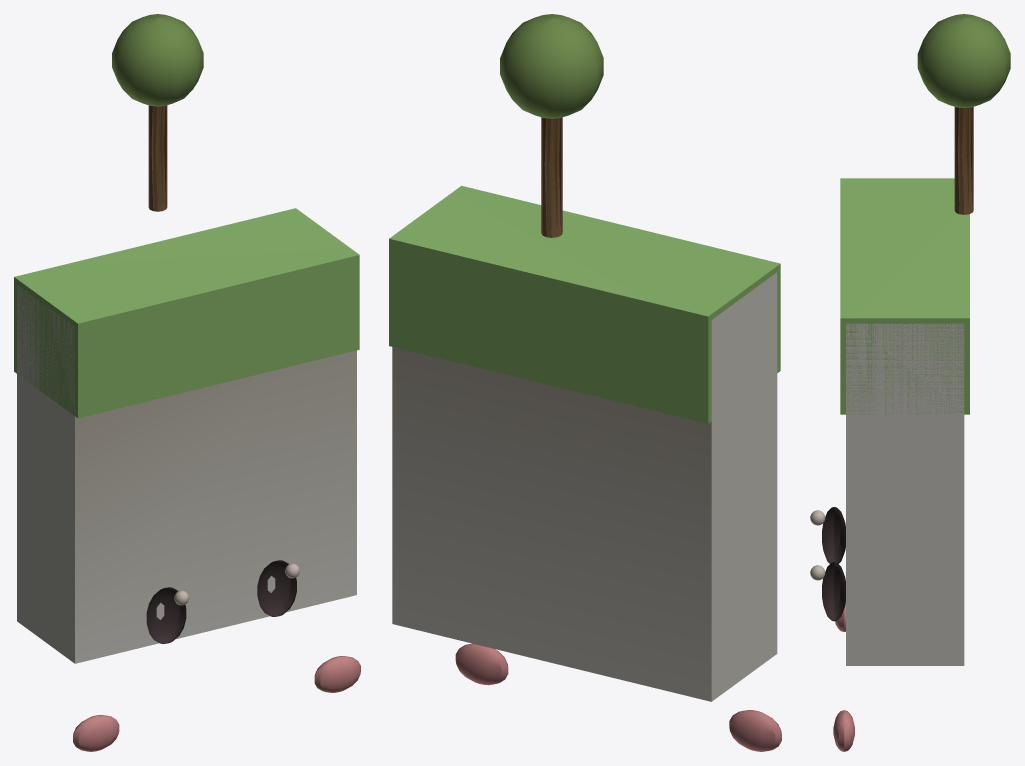
The model's file is p6fef44a8.glb.
The picture shows the model from 3 angles, left to right: view 1: azimuth 30°, elevation 25°; view 2: azimuth 150°, elevation 25°; view 3: azimuth 270°, elevation 25°; orthographic projection. The views are drawn at different scales.
Parts seen in each view (by area): view 1: pet_p6fef44a8; view 2: pet_p6fef44a8; view 3: pet_p6fef44a8.
Part boxes in pixels (bbox=[...]): pet_p6fef44a8: bbox=[14, 14, 360, 751]; pet_p6fef44a8: bbox=[389, 14, 781, 751]; pet_p6fef44a8: bbox=[810, 14, 1010, 751].
Size of the model in its own units: 0.2861 by 0.6264 by 0.1698.
